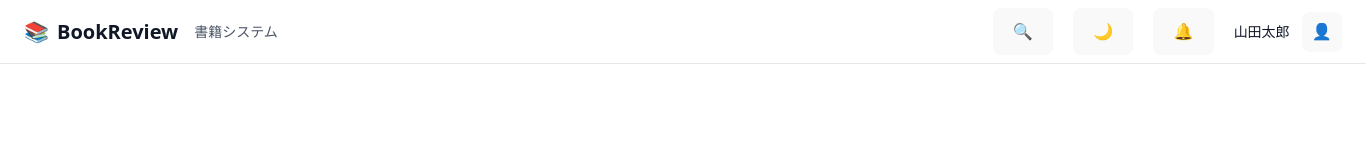
Header › toggles dark mode and persists state
// click to enable dark
Click the button named "ダークモード切り替え" at x=1103, y=32, box [1073,8,1133,55]
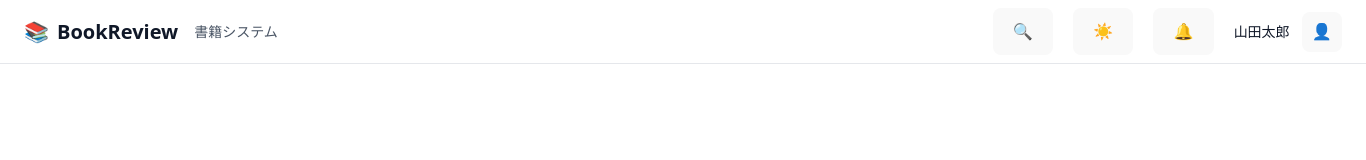
Expected: the button named "ダークモード切り替え" reads "☀️"
// click again back to light
Click the button named "ダークモード切り替え" at x=1103, y=32, box [1073,8,1133,55]
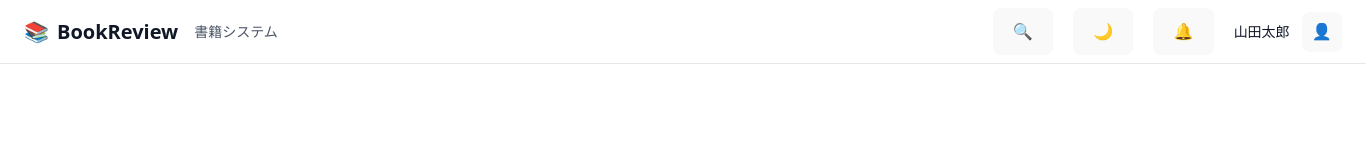
Expected: the button named "ダークモード切り替え" reads "🌙", [1073,8,1133,55]
